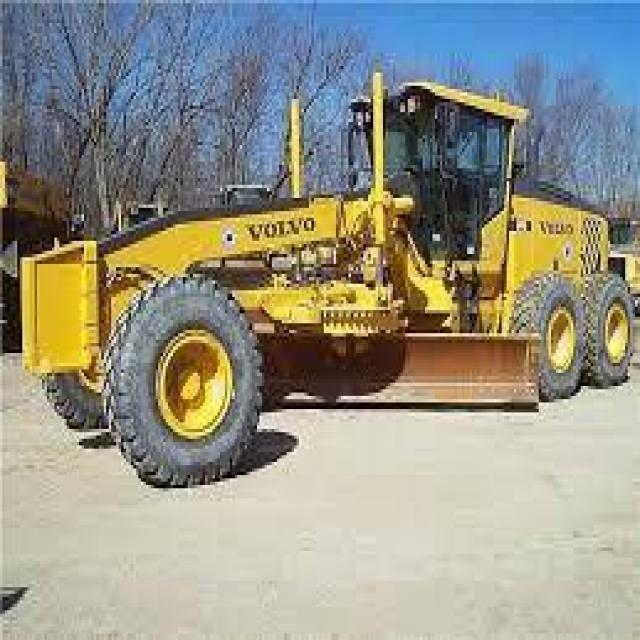Grader: (17, 59, 633, 512)
